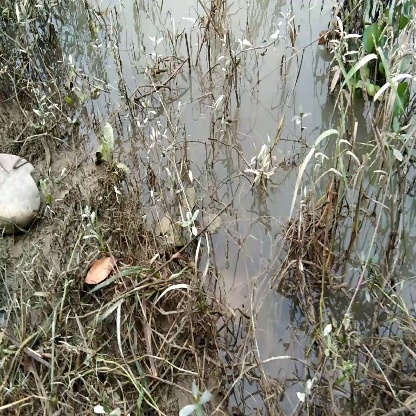grass: (332, 4, 416, 123)
